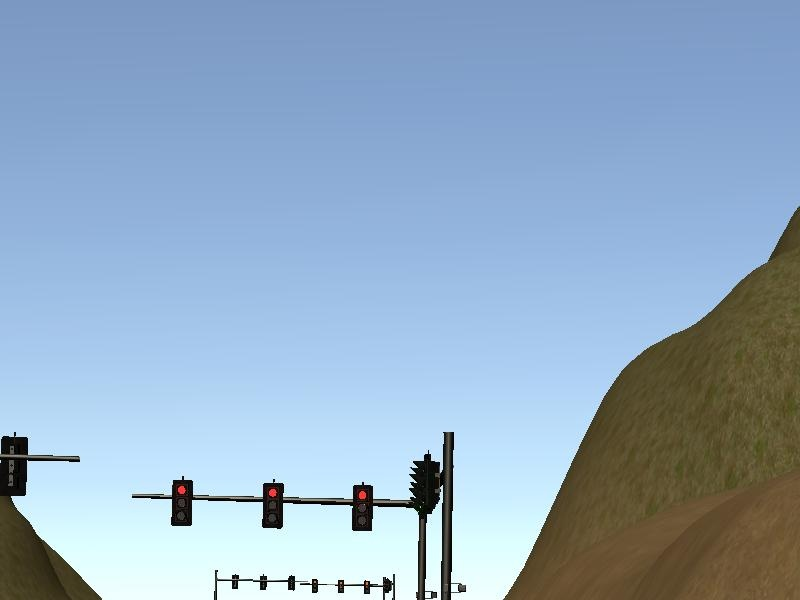red: (262, 483, 285, 529), (171, 481, 191, 527), (354, 485, 373, 531)
